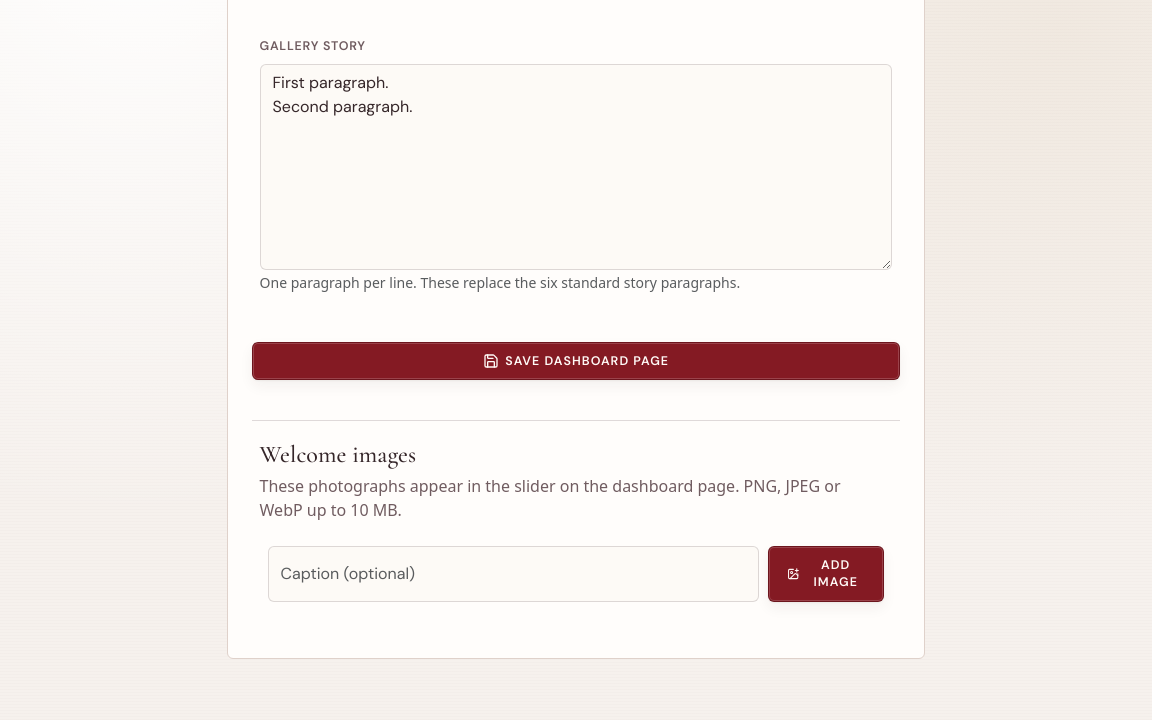
Scenario: Dashboard page administration › reports a failed save
(page scrolled)
Click the button "Save dashboard page".
click(576, 361)  # box [252, 342, 900, 380]
(page scrolled)
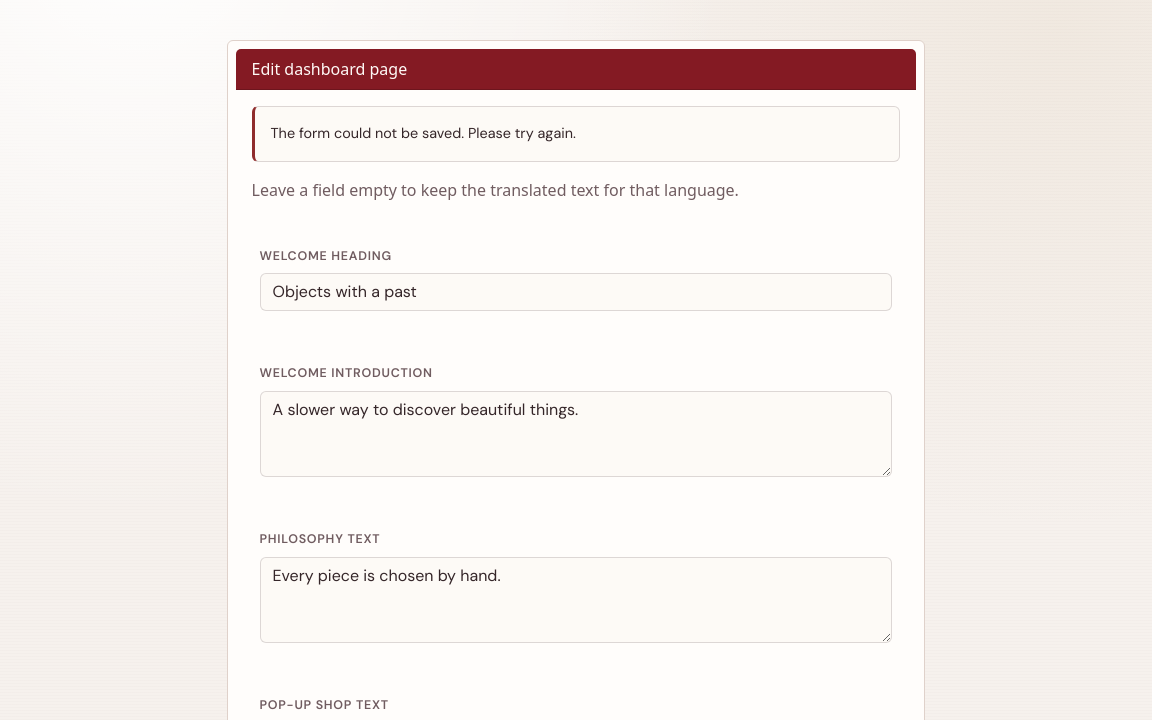
Now the text "The form could not be saved. Please try again." is shown, box [252, 106, 900, 162]
